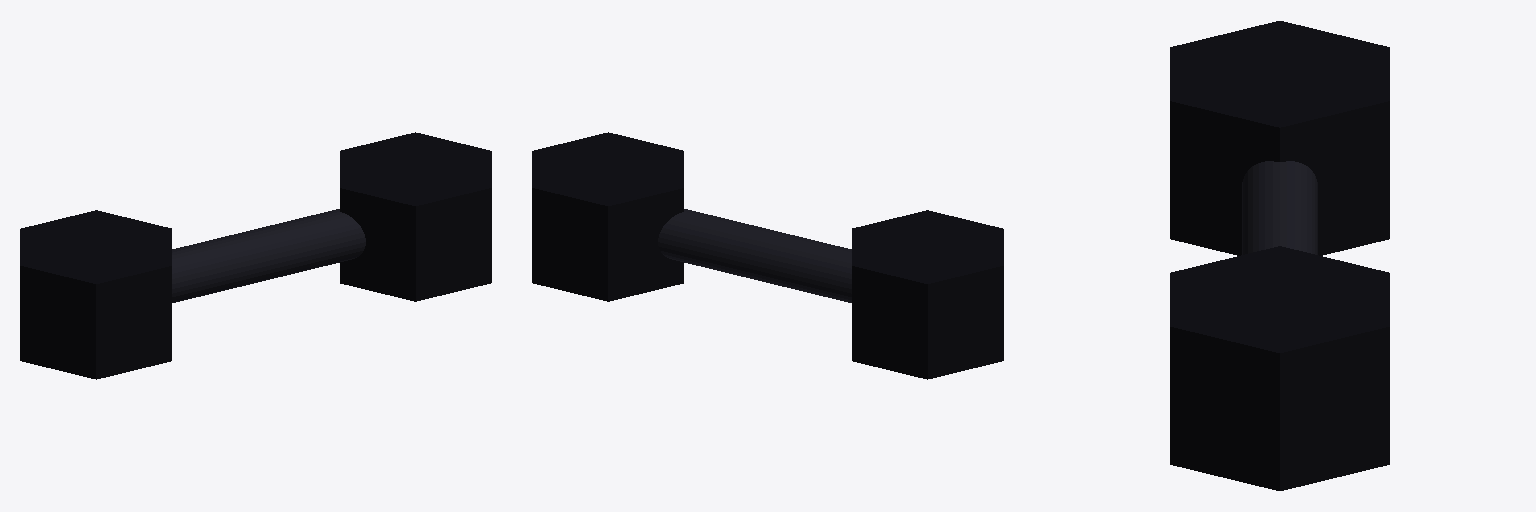
URDF robot description (hex_dumbbell):
<?xml version="1.0"?>
<!--
  六角哑铃 URDF 模型
  总质量: 5.0 kg (手柄 0.2 kg + 两端配重各 2.4 kg)
  手柄: 圆柱 ⌀30 × 150 mm
  配重盘: 正六棱柱, 外接圆半径 50 mm × 长 60 mm (跨棱 100mm, 跨边 ~86.6mm)
  长轴沿 X, 六角配重盘的 flat 面朝 ±Z, 平放不会滚
-->
<robot name="hex_dumbbell">

  <material name="handle_grip">
    <color rgba="0.15 0.15 0.18 1.0"/>
  </material>

  <material name="weight_iron">
    <color rgba="0.08 0.08 0.10 1.0"/>
  </material>

  <!-- ========== 手柄 ========== -->
  <link name="handle">
    <visual>
      <origin xyz="0 0 0" rpy="0 1.5707963 0"/>
      <geometry>
        <cylinder length="0.15" radius="0.015"/>
      </geometry>
      <material name="handle_grip"/>
    </visual>

    <collision>
      <origin xyz="0 0 0" rpy="0 1.5707963 0"/>
      <geometry>
        <cylinder length="0.15" radius="0.015"/>
      </geometry>
    </collision>

    <inertial>
      <origin xyz="0 0 0" rpy="0 0 0"/>
      <mass value="0.2"/>
      <inertia ixx="2.25e-5"  ixy="0.0" ixz="0.0"
               iyy="3.86e-4"  iyz="0.0"
               izz="3.86e-4"/>
    </inertial>
  </link>

  <!-- ========== 左侧六角配重 ========== -->
  <link name="left_weight">
    <visual>
      <origin xyz="0 0 0" rpy="0 0 0"/>
      <geometry>
        <mesh filename="hex_weight.stl" scale="1 1 1"/>
      </geometry>
      <material name="weight_iron"/>
    </visual>

    <collision>
      <origin xyz="0 0 0" rpy="0 0 0"/>
      <geometry>
        <mesh filename="hex_weight.stl" scale="1 1 1"/>
      </geometry>
    </collision>

    <inertial>
      <origin xyz="0 0 0" rpy="0 0 0"/>
      <mass value="2.4"/>
      <!-- 六棱柱: Ixx=(5/12)mR², Iyy=Izz=(5/24)mR²+(1/12)mL²
           m=2.4kg, R=0.05m, L=0.06m -->
      <inertia ixx="2.5e-3"   ixy="0.0" ixz="0.0"
               iyy="1.97e-3"  iyz="0.0"
               izz="1.97e-3"/>
    </inertial>
  </link>

  <joint name="handle_to_left_weight" type="fixed">
    <parent link="handle"/>
    <child  link="left_weight"/>
    <origin xyz="-0.105 0 0" rpy="0 0 0"/>
  </joint>

  <!-- ========== 右侧六角配重 ========== -->
  <link name="right_weight">
    <visual>
      <origin xyz="0 0 0" rpy="0 0 0"/>
      <geometry>
        <mesh filename="hex_weight.stl" scale="1 1 1"/>
      </geometry>
      <material name="weight_iron"/>
    </visual>

    <collision>
      <origin xyz="0 0 0" rpy="0 0 0"/>
      <geometry>
        <mesh filename="hex_weight.stl" scale="1 1 1"/>
      </geometry>
    </collision>

    <inertial>
      <origin xyz="0 0 0" rpy="0 0 0"/>
      <mass value="2.4"/>
      <inertia ixx="2.5e-3"   ixy="0.0" ixz="0.0"
               iyy="1.97e-3"  iyz="0.0"
               izz="1.97e-3"/>
    </inertial>
  </link>

  <joint name="handle_to_right_weight" type="fixed">
    <parent link="handle"/>
    <child  link="right_weight"/>
    <origin xyz="0.105 0 0" rpy="0 0 0"/>
  </joint>

</robot>

--- Render facts (derived) ---
Views: 3 orthographic renders of the robot side by side, from view 1: azimuth 30°, elevation 25°; view 2: azimuth 150°, elevation 25°; view 3: azimuth 270°, elevation 25°.
Model hex_dumbbell with 3 links and 2 joints (2 fixed), rooted at handle, posed all joints at 0.
Links seen in each view (by area): view 1: left_weight, right_weight, handle; view 2: left_weight, right_weight, handle; view 3: right_weight, left_weight, handle.
Boxes of the visible links, bbox=[...] form: left_weight: bbox=[20, 210, 171, 379]; right_weight: bbox=[340, 132, 491, 301]; handle: bbox=[172, 209, 365, 302]; left_weight: bbox=[852, 210, 1003, 379]; right_weight: bbox=[532, 132, 683, 301]; handle: bbox=[658, 209, 851, 302]; right_weight: bbox=[1170, 246, 1389, 490]; left_weight: bbox=[1170, 21, 1389, 255]; handle: bbox=[1242, 161, 1317, 254].
Size in the robot's own frame: 0.31 by 0.0866 by 0.06 metres.
2 mesh visuals loaded from 1 distinct referenced files (1 binary STL).
